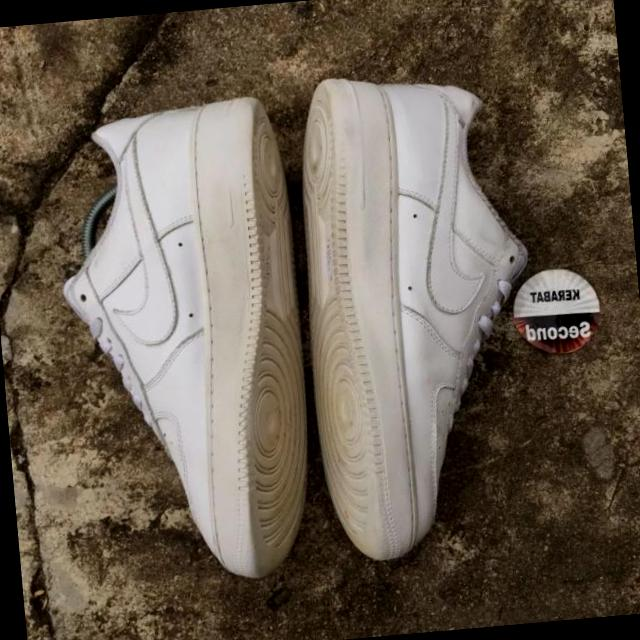nike_original_airforce: (282, 65, 566, 574), (42, 88, 328, 588)
